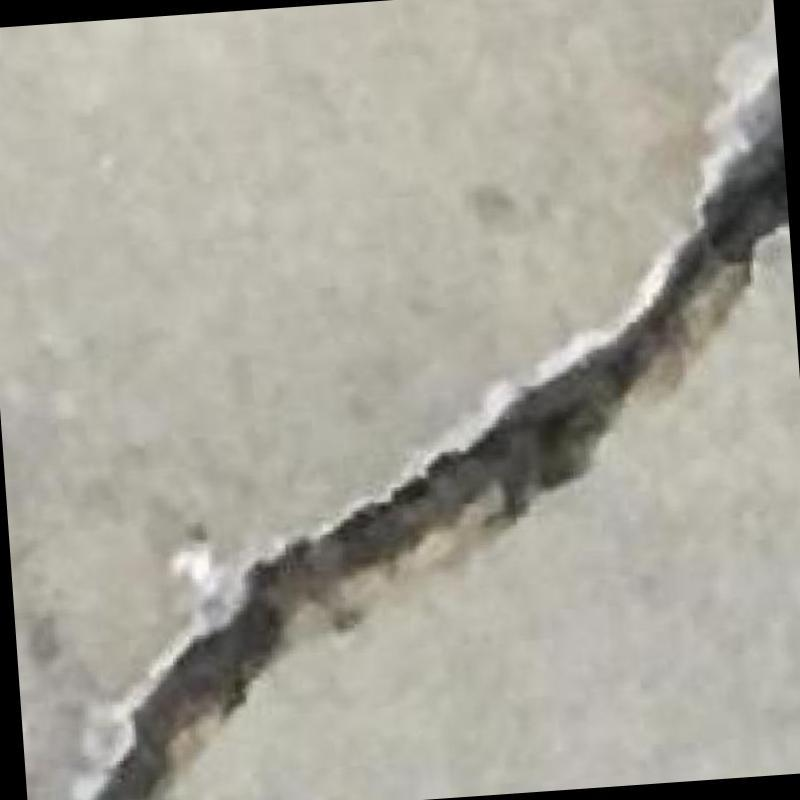pothole: (96, 102, 787, 800)
